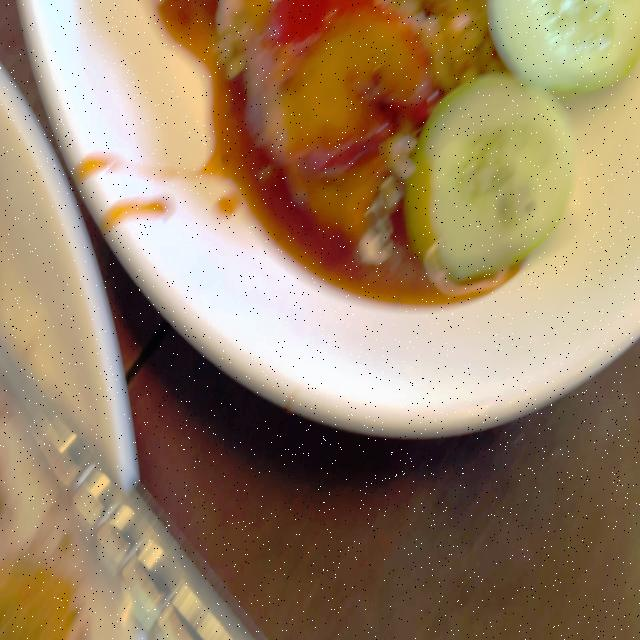cucumber: (408, 74, 573, 274), (481, 0, 640, 92)
red_pork: (228, 0, 414, 228)
red_pork_and_crispy_pork: (194, 0, 640, 274)
